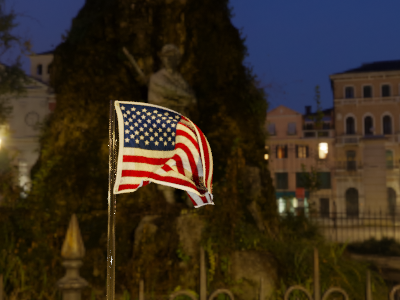America flag: (113, 99, 218, 209)
